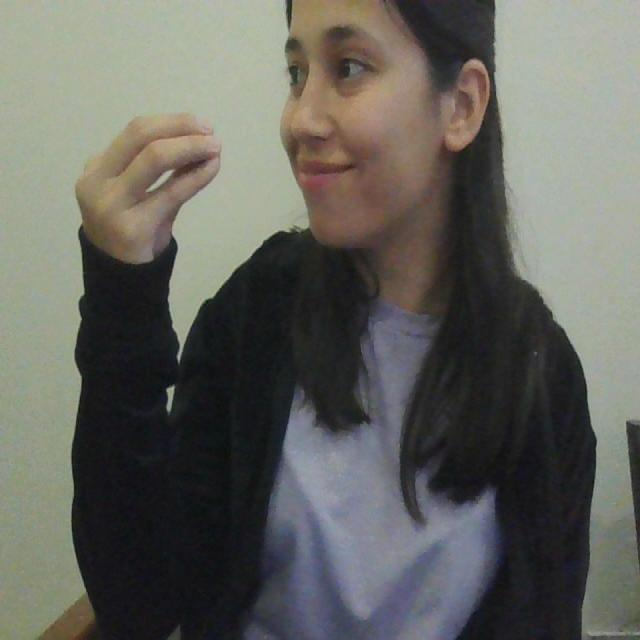Yemek: (73, 103, 339, 218)
